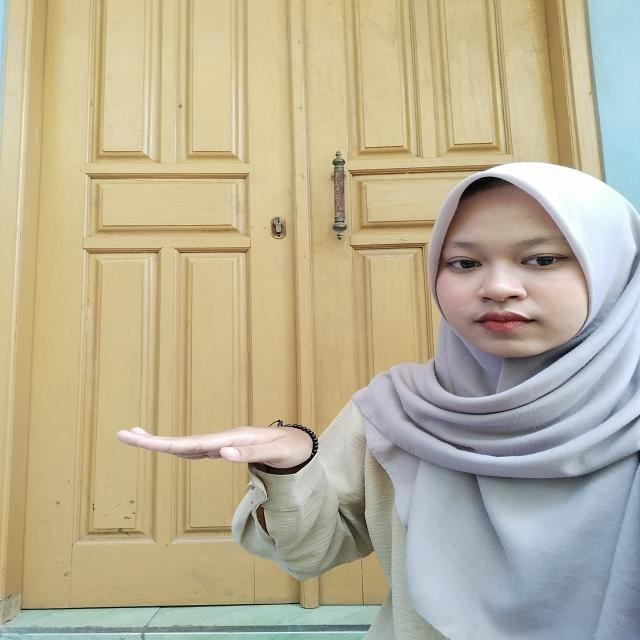adik: (100, 403, 343, 505)
